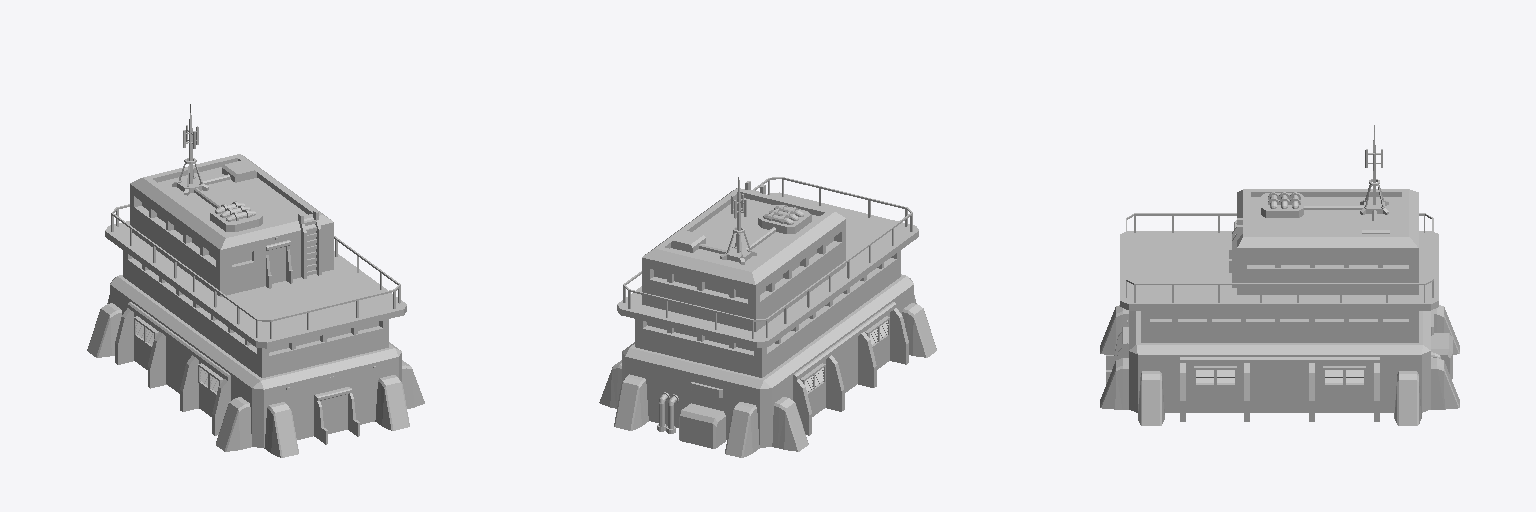
File: Office building.obj
3 renders of one model, left to right at view 1: azimuth 30°, elevation 25°; view 2: azimuth 150°, elevation 25°; view 3: azimuth 270°, elevation 25°, orthographic.
Parts seen in each view (by area): view 1: Office_building_1__Cube.000; view 2: Office_building_1__Cube.000; view 3: Office_building_1__Cube.000.
Boxes of the visible parts, box(x1,y1,x2,y2) form: Office_building_1__Cube.000: box(87, 104, 424, 457); Office_building_1__Cube.000: box(599, 177, 936, 457); Office_building_1__Cube.000: box(1100, 125, 1459, 425).
Size of the model in its own units: 3.38 by 3.93 by 5.25.